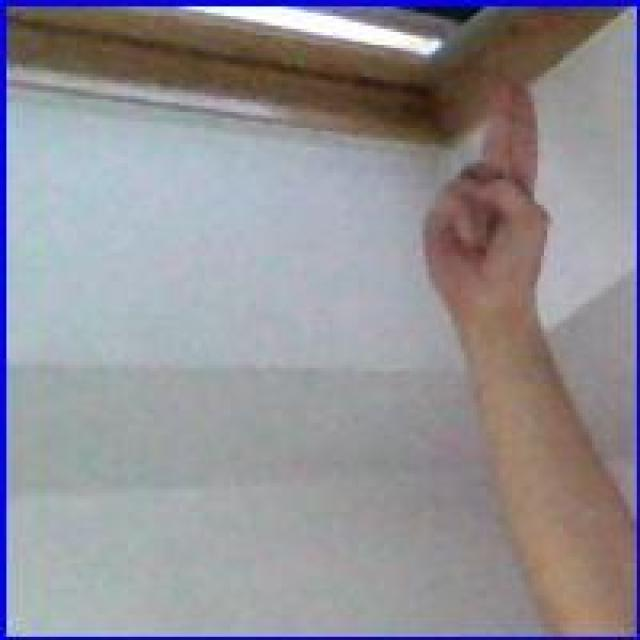U: (419, 43, 560, 328)
